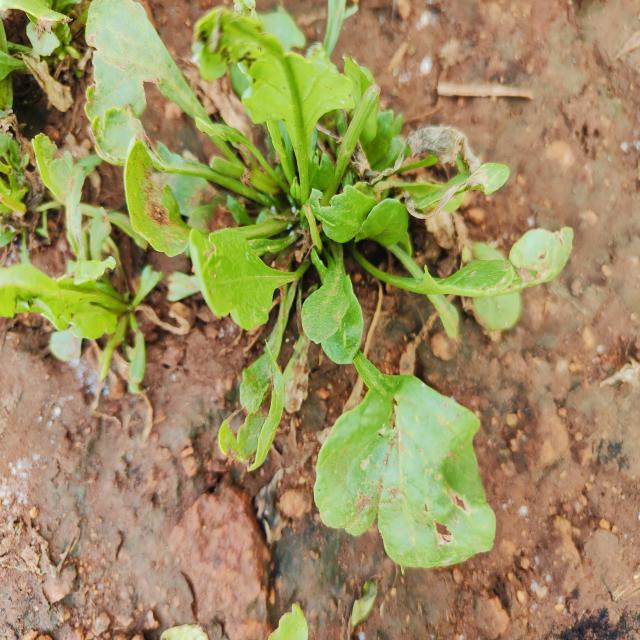leaves: (328, 316, 511, 596), (197, 10, 343, 253), (354, 214, 589, 316), (109, 137, 273, 283), (199, 227, 332, 358), (340, 158, 421, 277), (293, 244, 362, 359), (319, 155, 384, 258)
